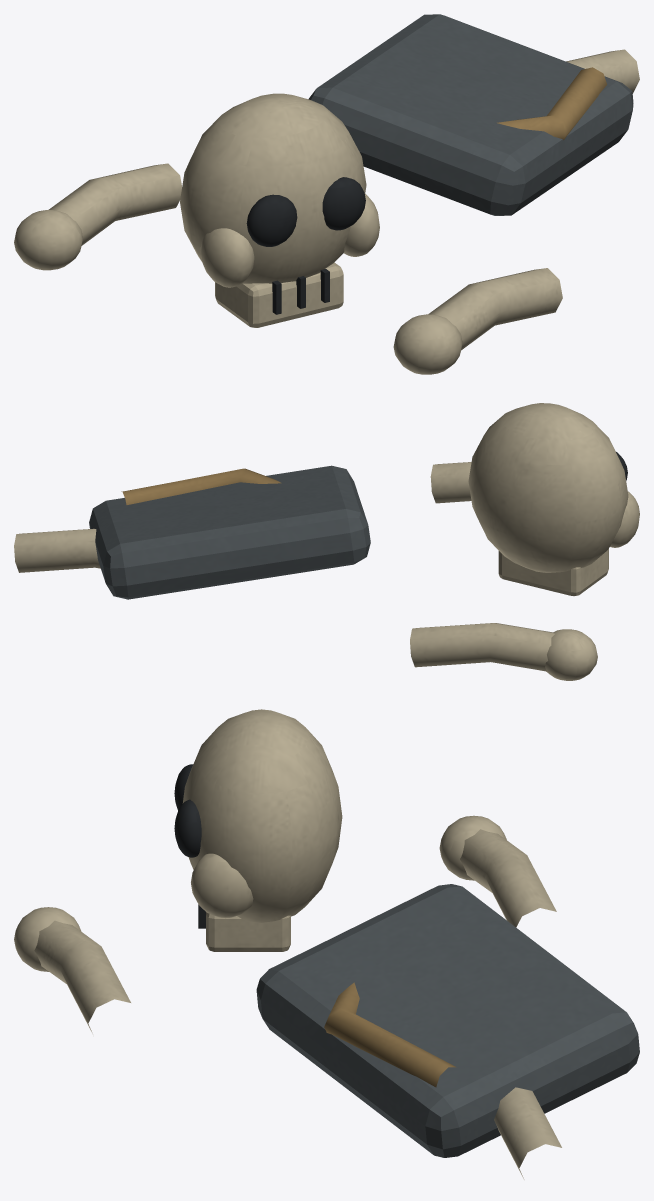
The model's file is death_remains.glb.
3 renders of one model, top to bottom at view 1: azimuth 30°, elevation 25°; view 2: azimuth 150°, elevation 25°; view 3: azimuth 270°, elevation 25°, orthographic. The views are drawn at different scales.
Visible parts, largest first — view 1: death_remains; view 2: death_remains; view 3: death_remains.
Boxes of the visible parts, left/top/right/bottom form: death_remains: left=14, top=14, right=639, bottom=374; death_remains: left=14, top=403, right=639, bottom=680; death_remains: left=14, top=709, right=639, bottom=1179.
Bounding box in the file's own units: 0.5462 × 0.171 × 0.4362.
Materials: 4 (4 with a texture image).
